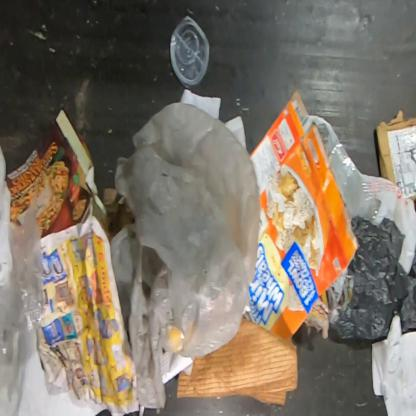cardboard: (246, 89, 360, 341), (375, 109, 415, 201)
rigid_plastic: (170, 16, 210, 88)
soft_plastic: (110, 103, 260, 409), (0, 140, 44, 416), (329, 215, 415, 340), (310, 113, 382, 224), (362, 173, 415, 274)
